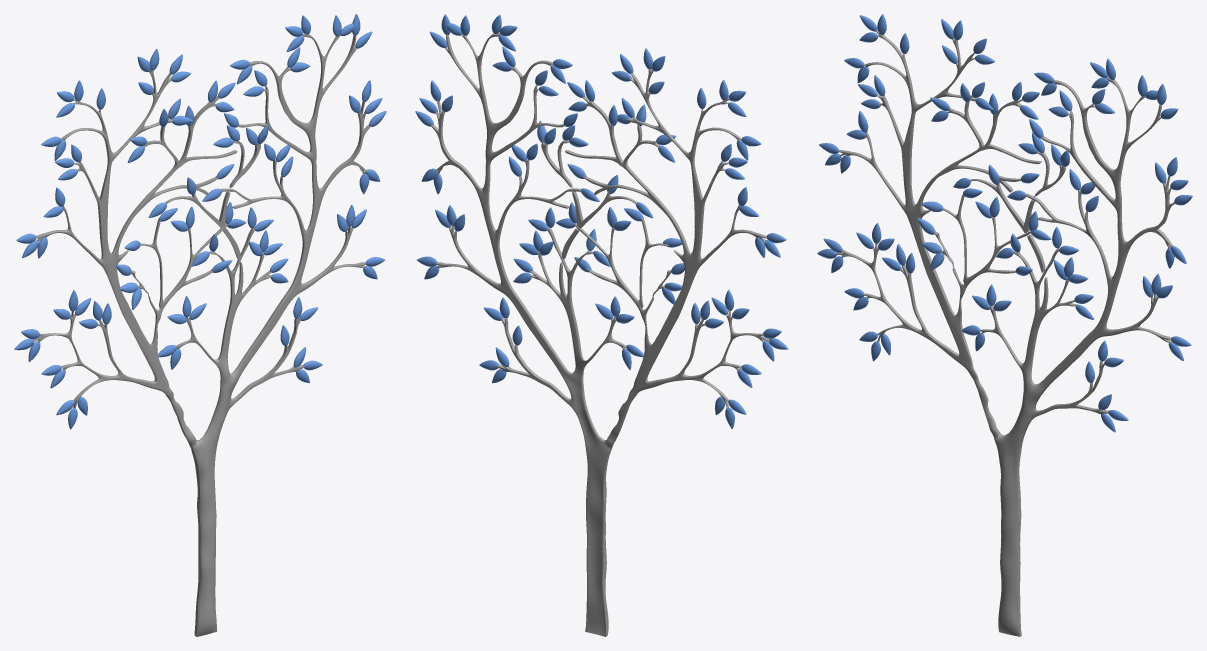
File: goodTree6_withLeaves.fbx
3 views of the same model, side by side, from view 1: azimuth 30°, elevation 25°; view 2: azimuth 150°, elevation 25°; view 3: azimuth 330°, elevation 25° (orthographic).
Parts seen in each view (by area): view 1: goodTree6_full1_goodTree6; view 2: goodTree6_full1_goodTree6; view 3: goodTree6_full1_goodTree6.
Boxes of the visible parts, x1=… form: goodTree6_full1_goodTree6: x1=14, y1=14, x2=386, y2=636; goodTree6_full1_goodTree6: x1=415, y1=14, x2=788, y2=636; goodTree6_full1_goodTree6: x1=817, y1=14, x2=1192, y2=636.
Size of the model in its own units: 23.54 by 36.09 by 0.649.
